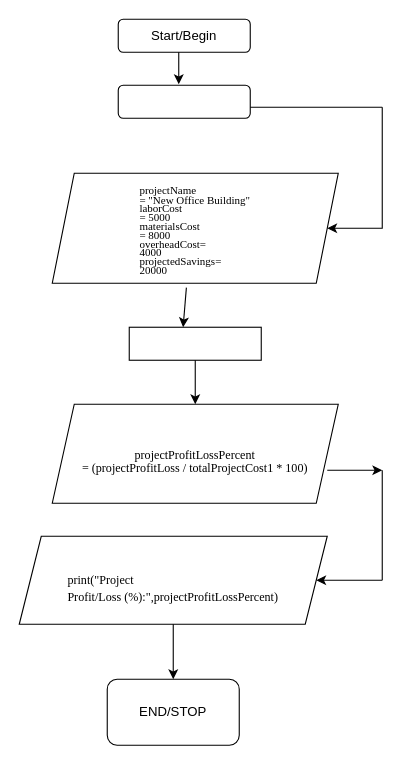
The diagram is 410 pixels wide and 765 high, and some of its shapes have lost their labels. The shapes that lost their labels are listed below. From the top down, each one's box as (x1, y1, x2, y2) in pixels, then its label:
(117, 84, 250, 118): Input
(128, 326, 261, 360): Process/Calculations
